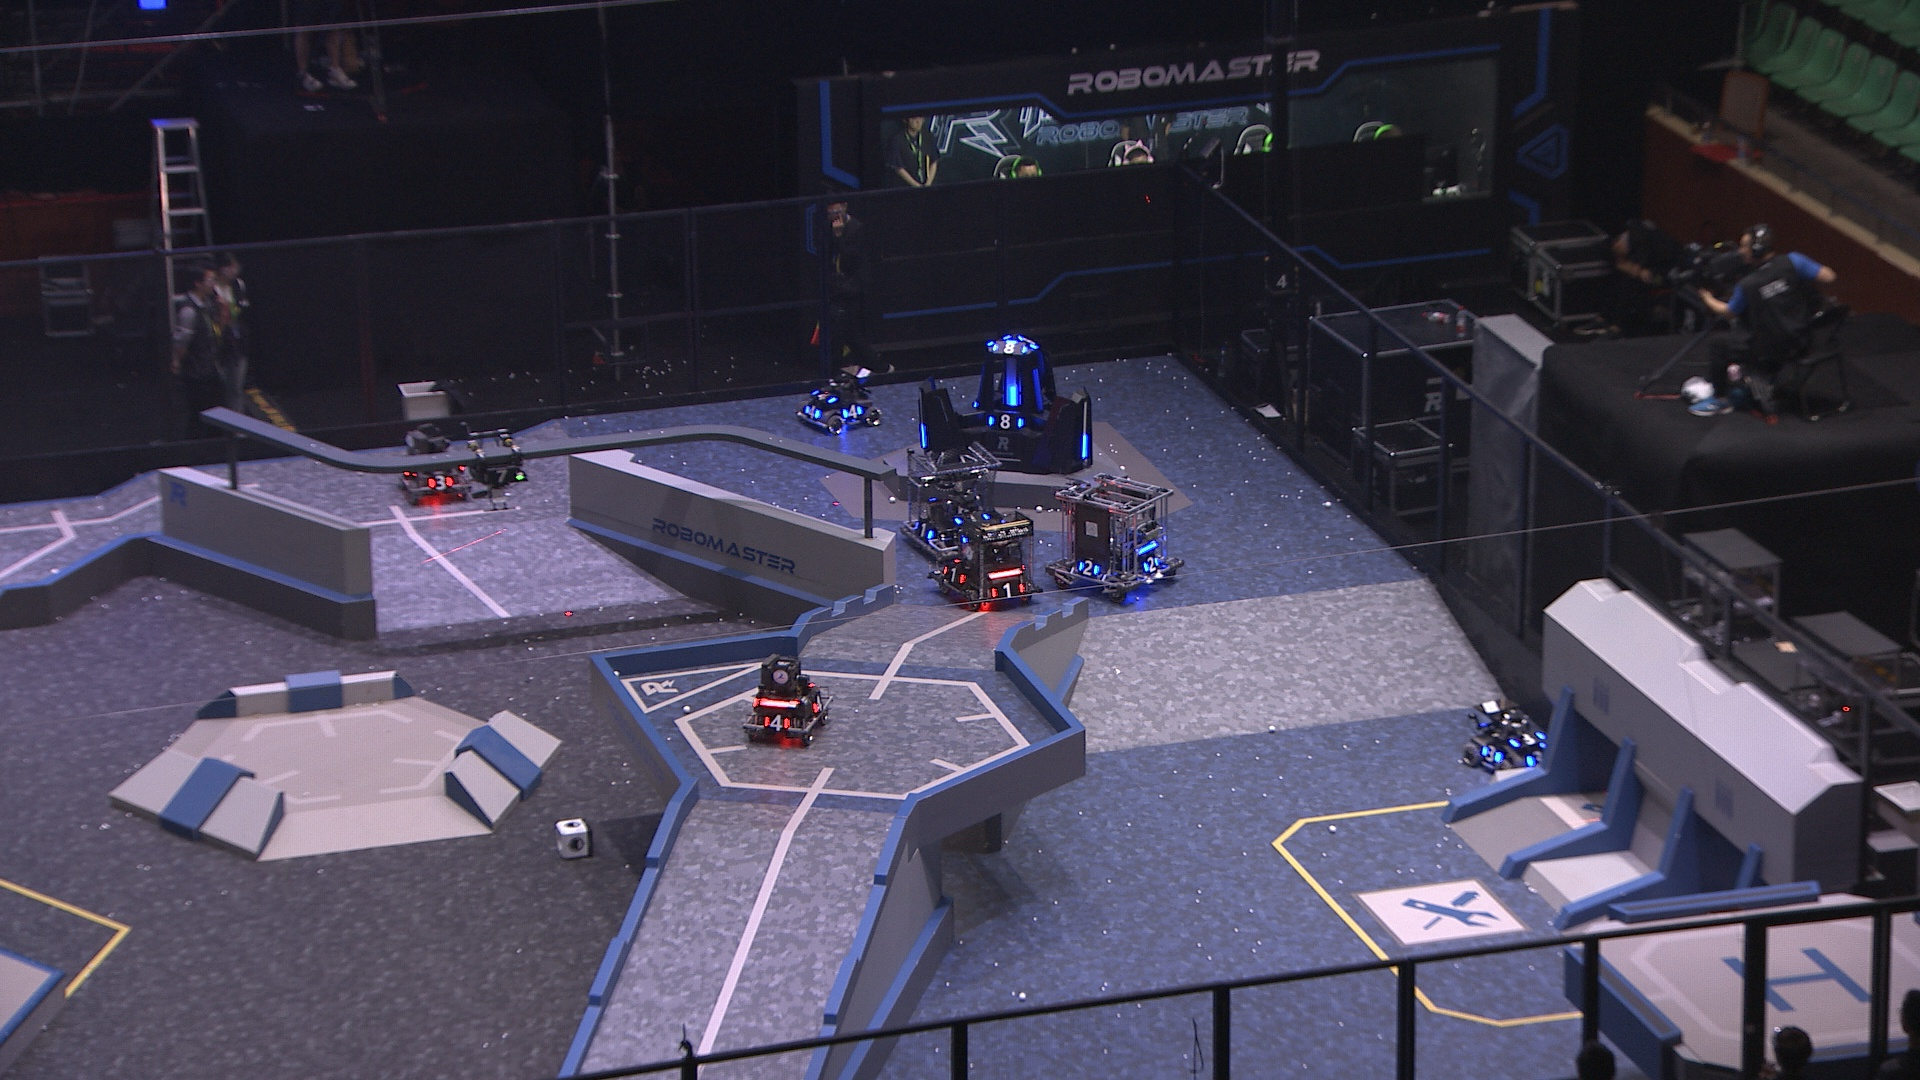armor: (1027, 367, 1050, 415), (986, 579, 1026, 603), (1509, 728, 1545, 752), (984, 411, 1026, 431), (1523, 746, 1555, 771), (425, 469, 458, 493), (479, 469, 526, 485), (1477, 741, 1505, 767), (939, 562, 969, 585), (761, 709, 793, 732), (807, 384, 839, 406), (992, 338, 1030, 356), (910, 520, 938, 542), (1141, 553, 1163, 578), (953, 509, 992, 524), (916, 419, 930, 450), (841, 404, 866, 419), (808, 695, 829, 713), (800, 401, 822, 419), (1005, 384, 1021, 407), (1077, 433, 1091, 460), (1077, 559, 1096, 578)
base: (913, 330, 1097, 472)
car: (1039, 465, 1182, 604), (898, 436, 1011, 560), (926, 510, 1040, 607), (737, 651, 833, 746), (1462, 698, 1567, 781), (392, 423, 473, 504), (796, 365, 884, 434)
watcher: (465, 427, 529, 512)
